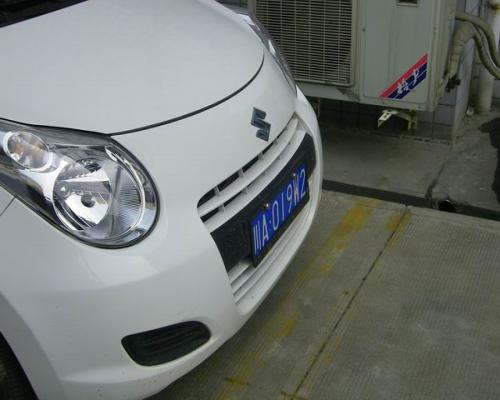Carplate: (253, 152, 313, 258)
